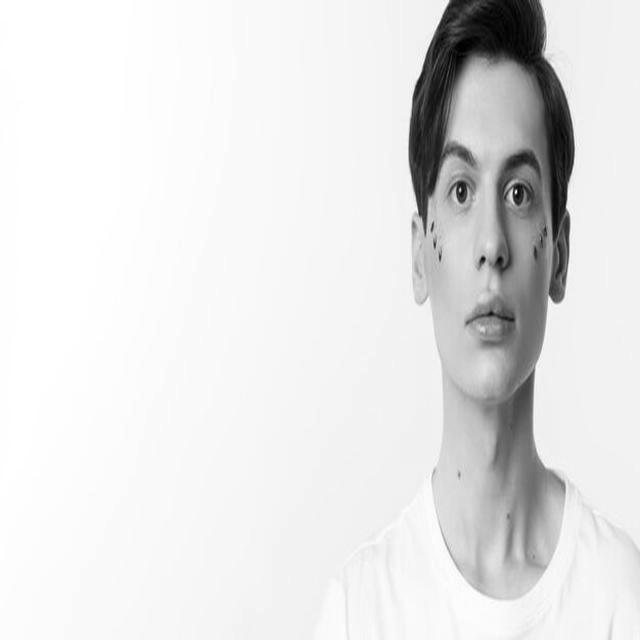Neutral: (425, 61, 553, 399)
